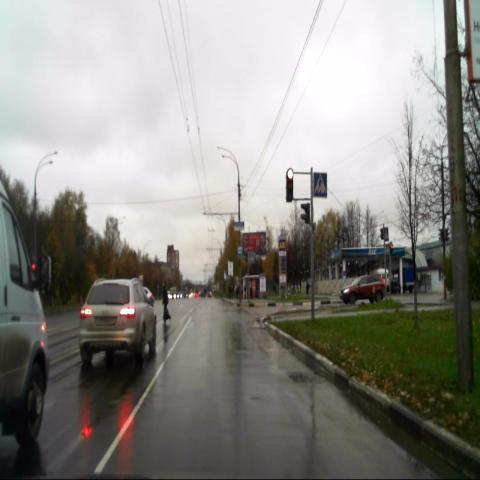5_19_1: (314, 172, 328, 197)
